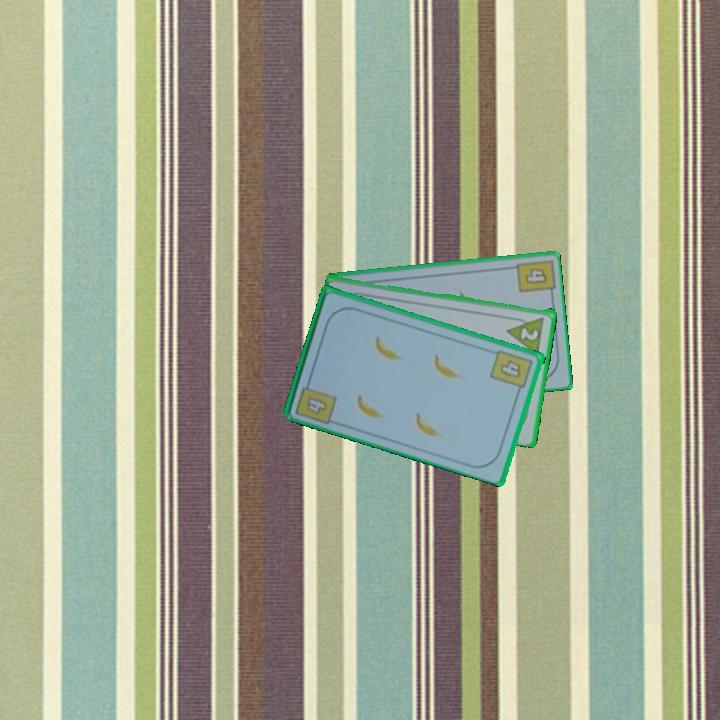2p: (504, 313, 547, 356)
4b: (487, 346, 536, 397), (292, 374, 339, 427), (522, 264, 550, 287)
